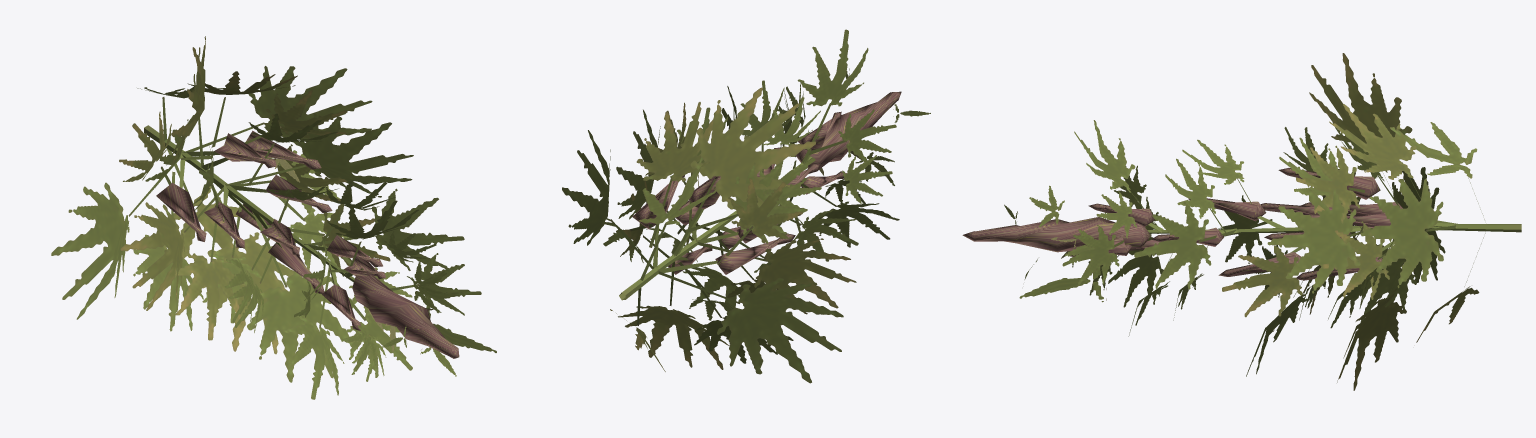
Rendered from p_purple_landrace_ripe_c1_cards.obj.
The picture shows the model from 3 angles, left to right: view 1: azimuth 30°, elevation 25°; view 2: azimuth 150°, elevation 25°; view 3: azimuth 270°, elevation 25°; orthographic projection. The views are drawn at different scales.
Size of the model in its own units: 1.54 by 1.46 by 2.13.
1 material, 1 textured.
